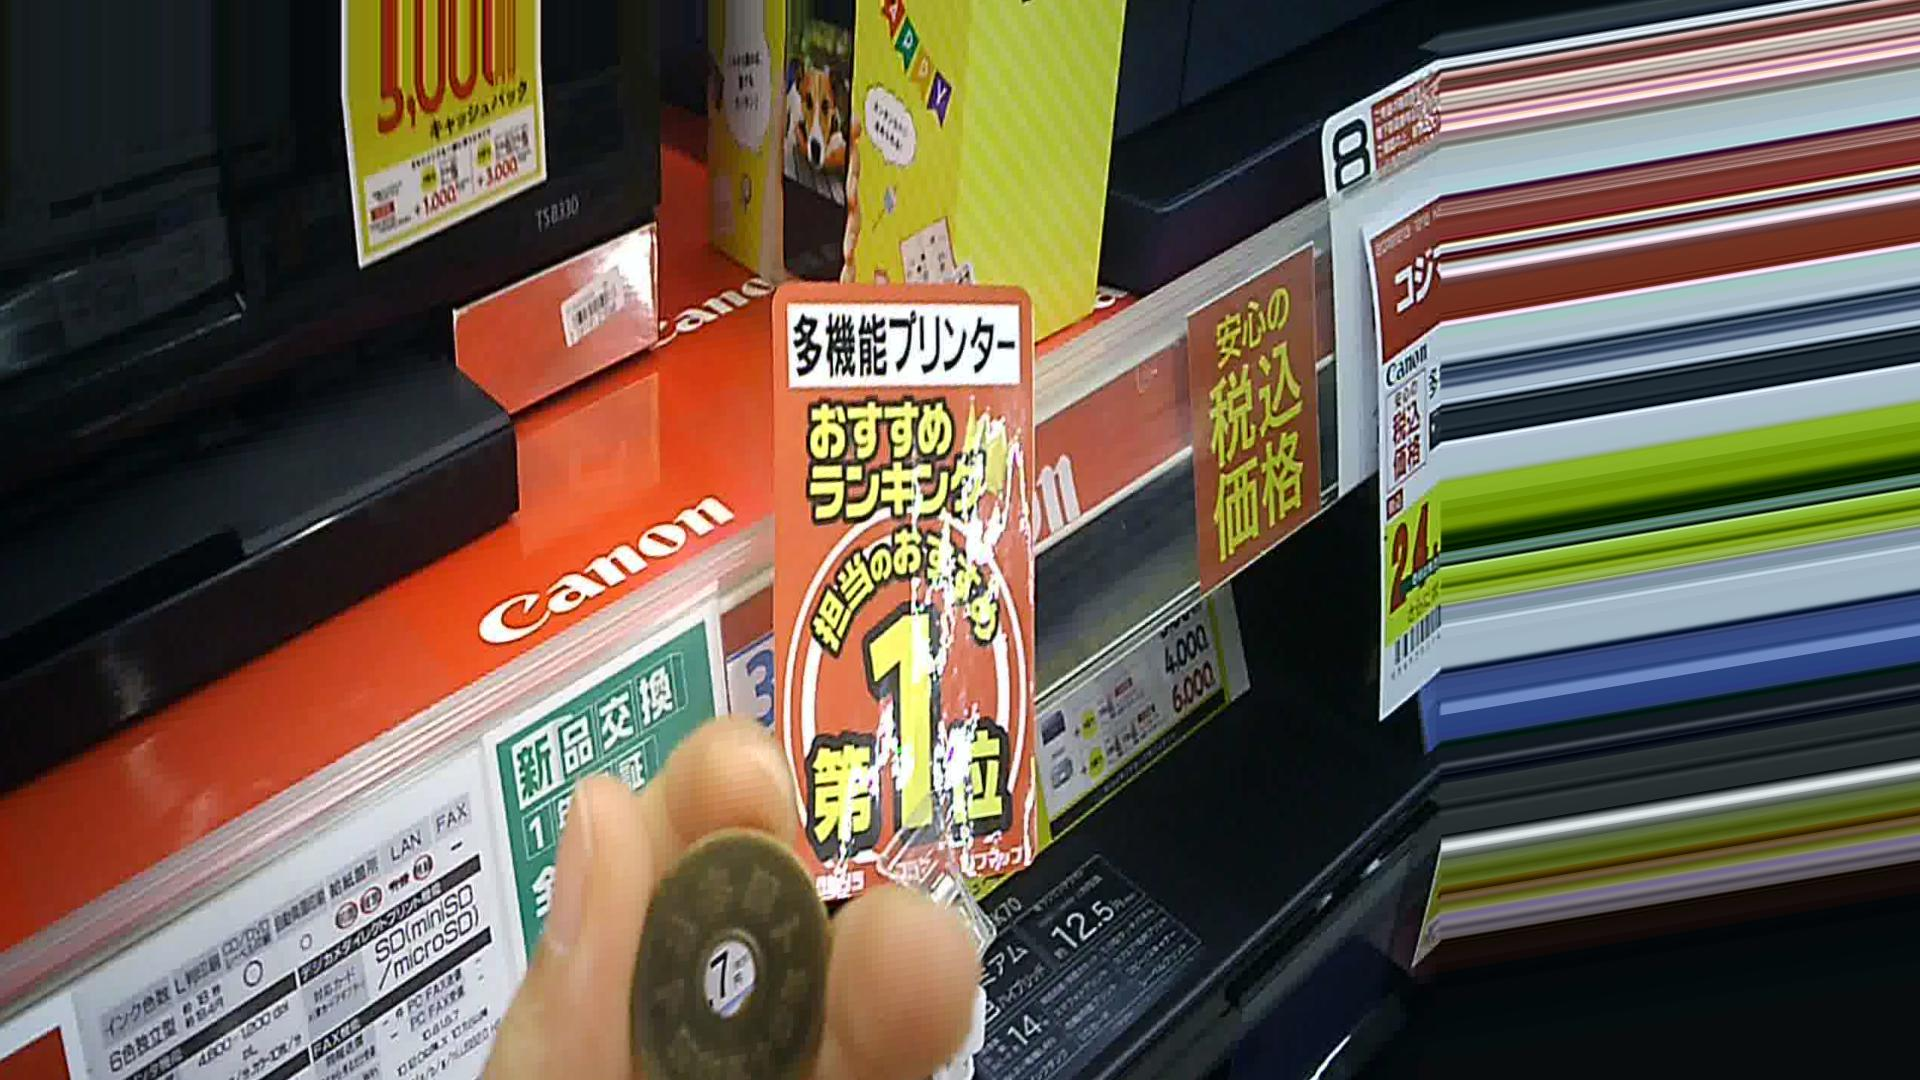5 Yen: (601, 839, 843, 1067)
